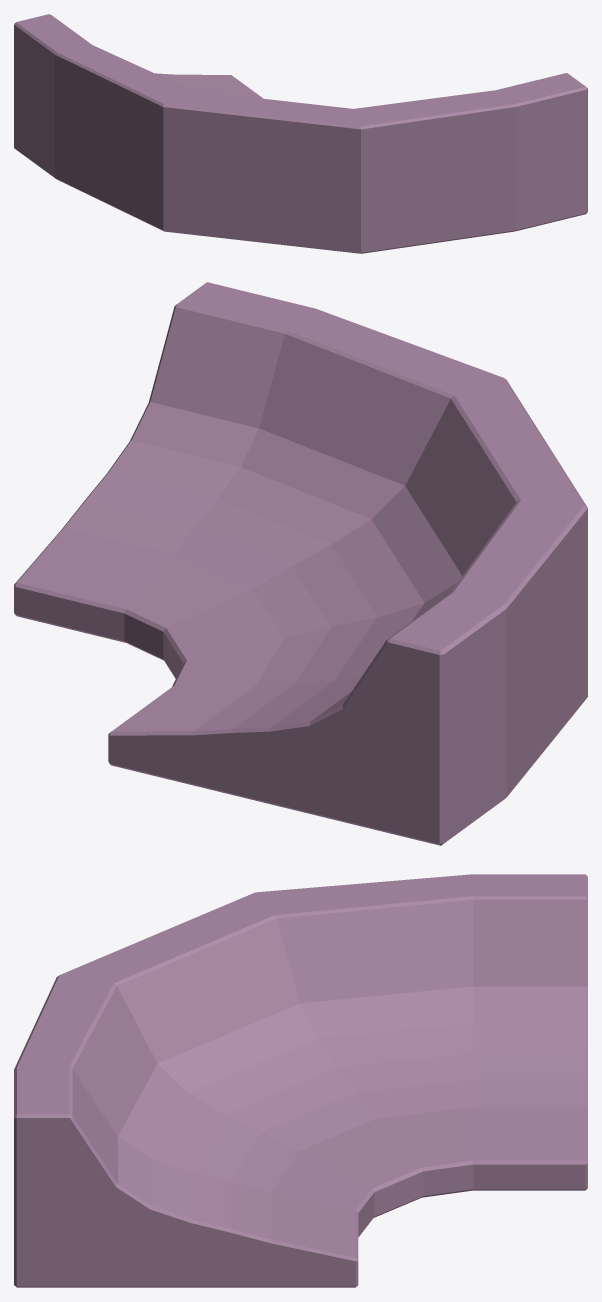
Rendered from mesh_bigCurvedRampMod.fbx.
The picture shows the model from 3 angles, top to bottom: view 1: azimuth 30°, elevation 25°; view 2: azimuth 150°, elevation 25°; view 3: azimuth 270°, elevation 25°; orthographic projection. The views are drawn at different scales.
Visible parts, largest first — view 1: mesh_bigCurvedRampMod_v03; view 2: mesh_bigCurvedRampMod_v03; view 3: mesh_bigCurvedRampMod_v03.
Part boxes in pixels (x1,y1,x2,y2): mesh_bigCurvedRampMod_v03: [14, 14, 587, 253]; mesh_bigCurvedRampMod_v03: [14, 282, 587, 845]; mesh_bigCurvedRampMod_v03: [14, 874, 587, 1287].
Size of the model in its own units: 25 by 8.33 by 25.
